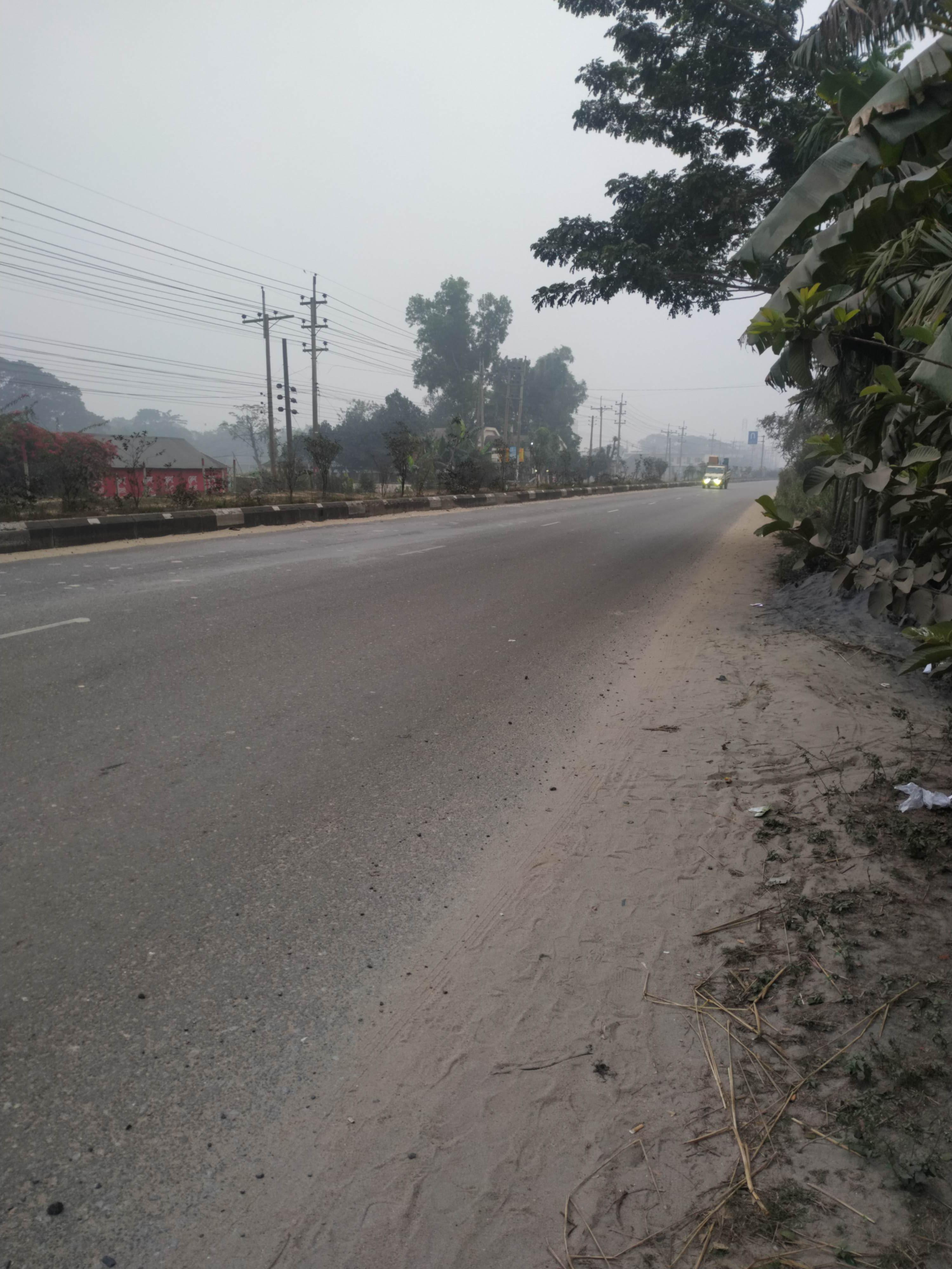Truck: (693, 441, 762, 501)
